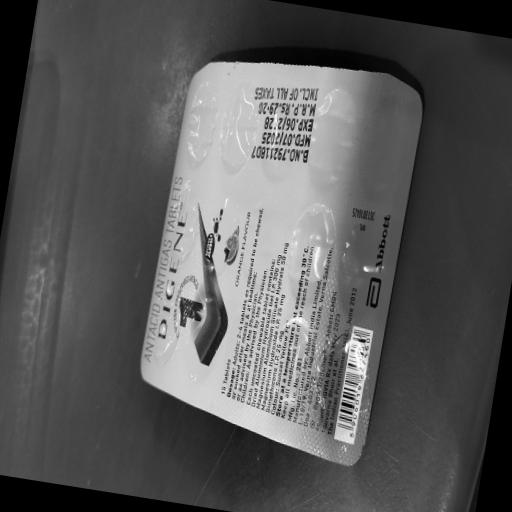digene: (139, 163, 198, 374)
medicine: (120, 20, 435, 484)
